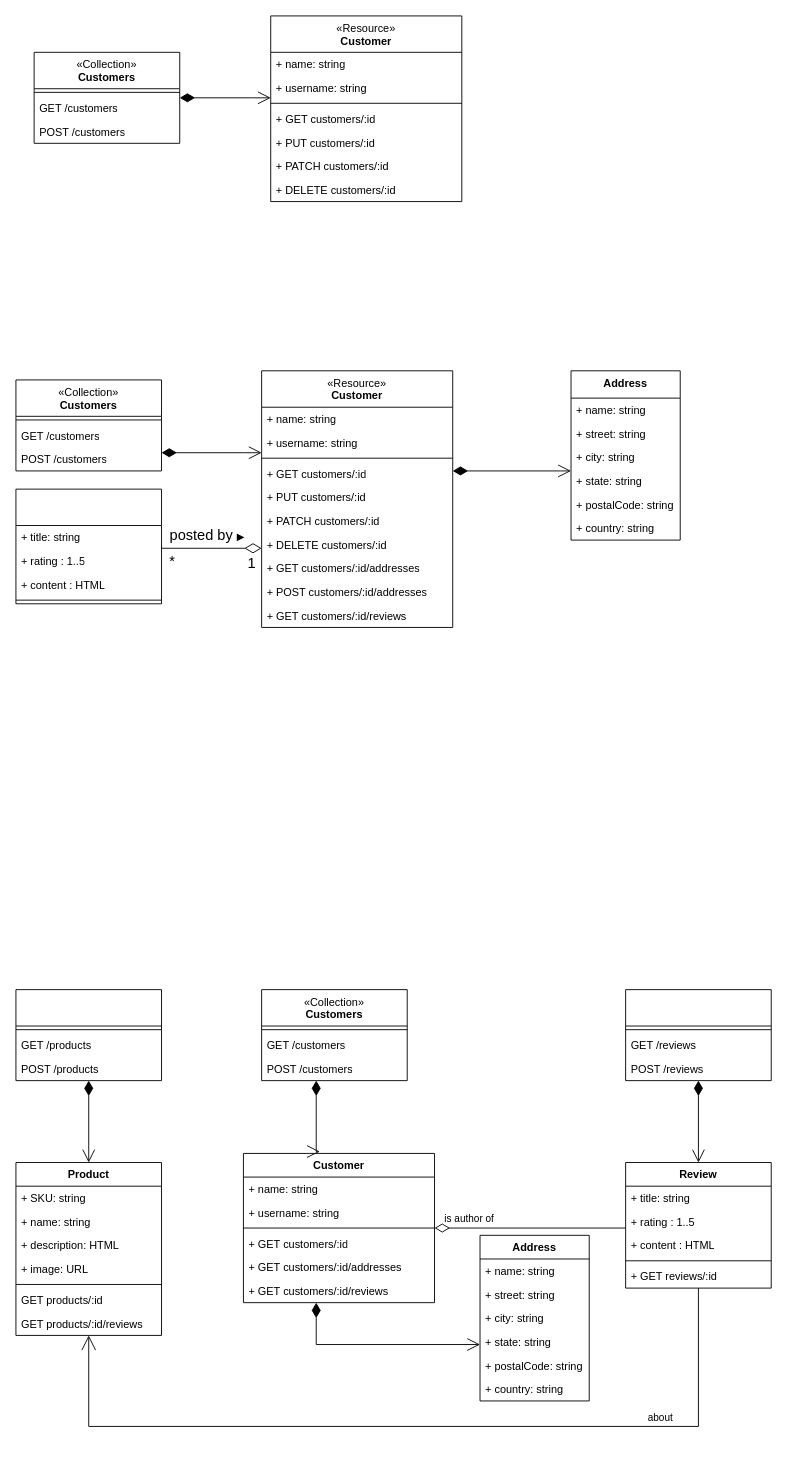
This 787x1457 diagram has some shape labels left out. Here are the shapes that lost their labels. From the top down, the box of each, then its label:
(15, 488, 162, 604): «Resource» Review
(15, 989, 162, 1081): «Collection» Products
(625, 989, 771, 1081): «Collection» Reviews
